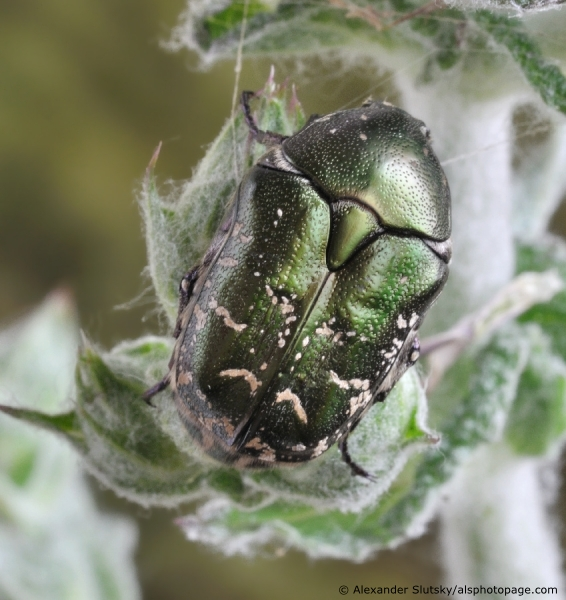Protaetia_metallica: (182, 78, 460, 490)
